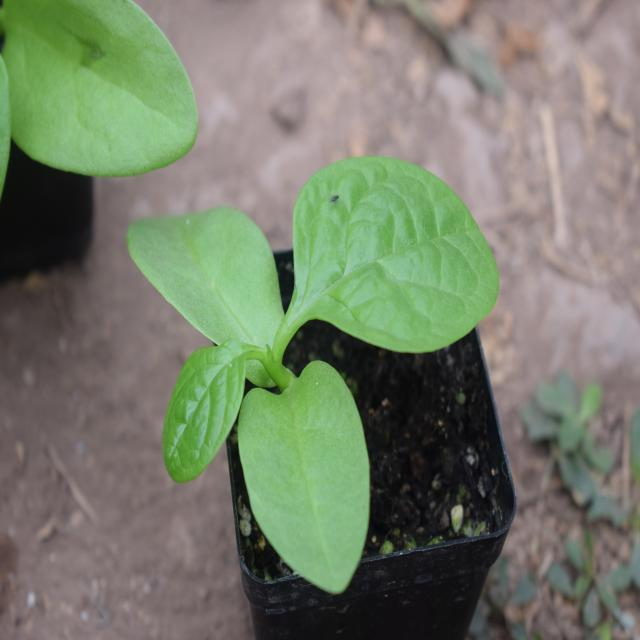Ceylon spinach: (133, 167, 485, 560)
